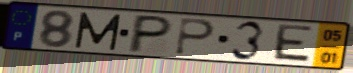3: (228, 20, 272, 62)
8: (35, 9, 76, 49)
E: (269, 23, 315, 65)
M: (73, 11, 124, 52)
P: (124, 13, 176, 54), (172, 17, 218, 57)
